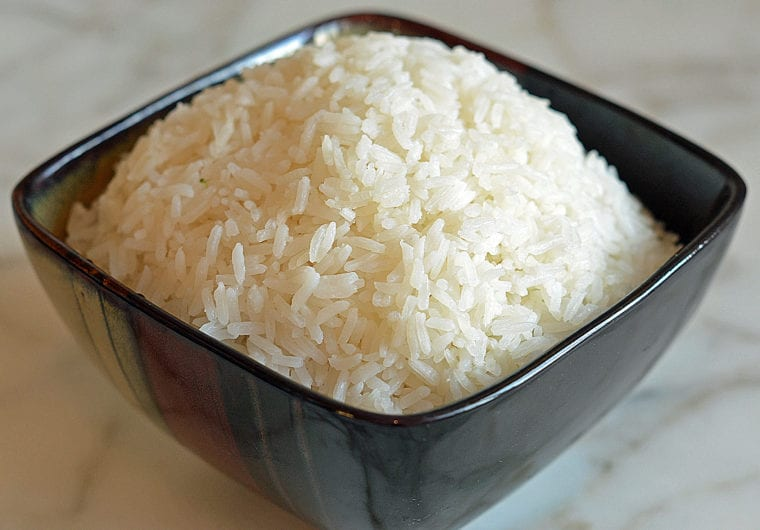rice: (86, 30, 681, 399)
